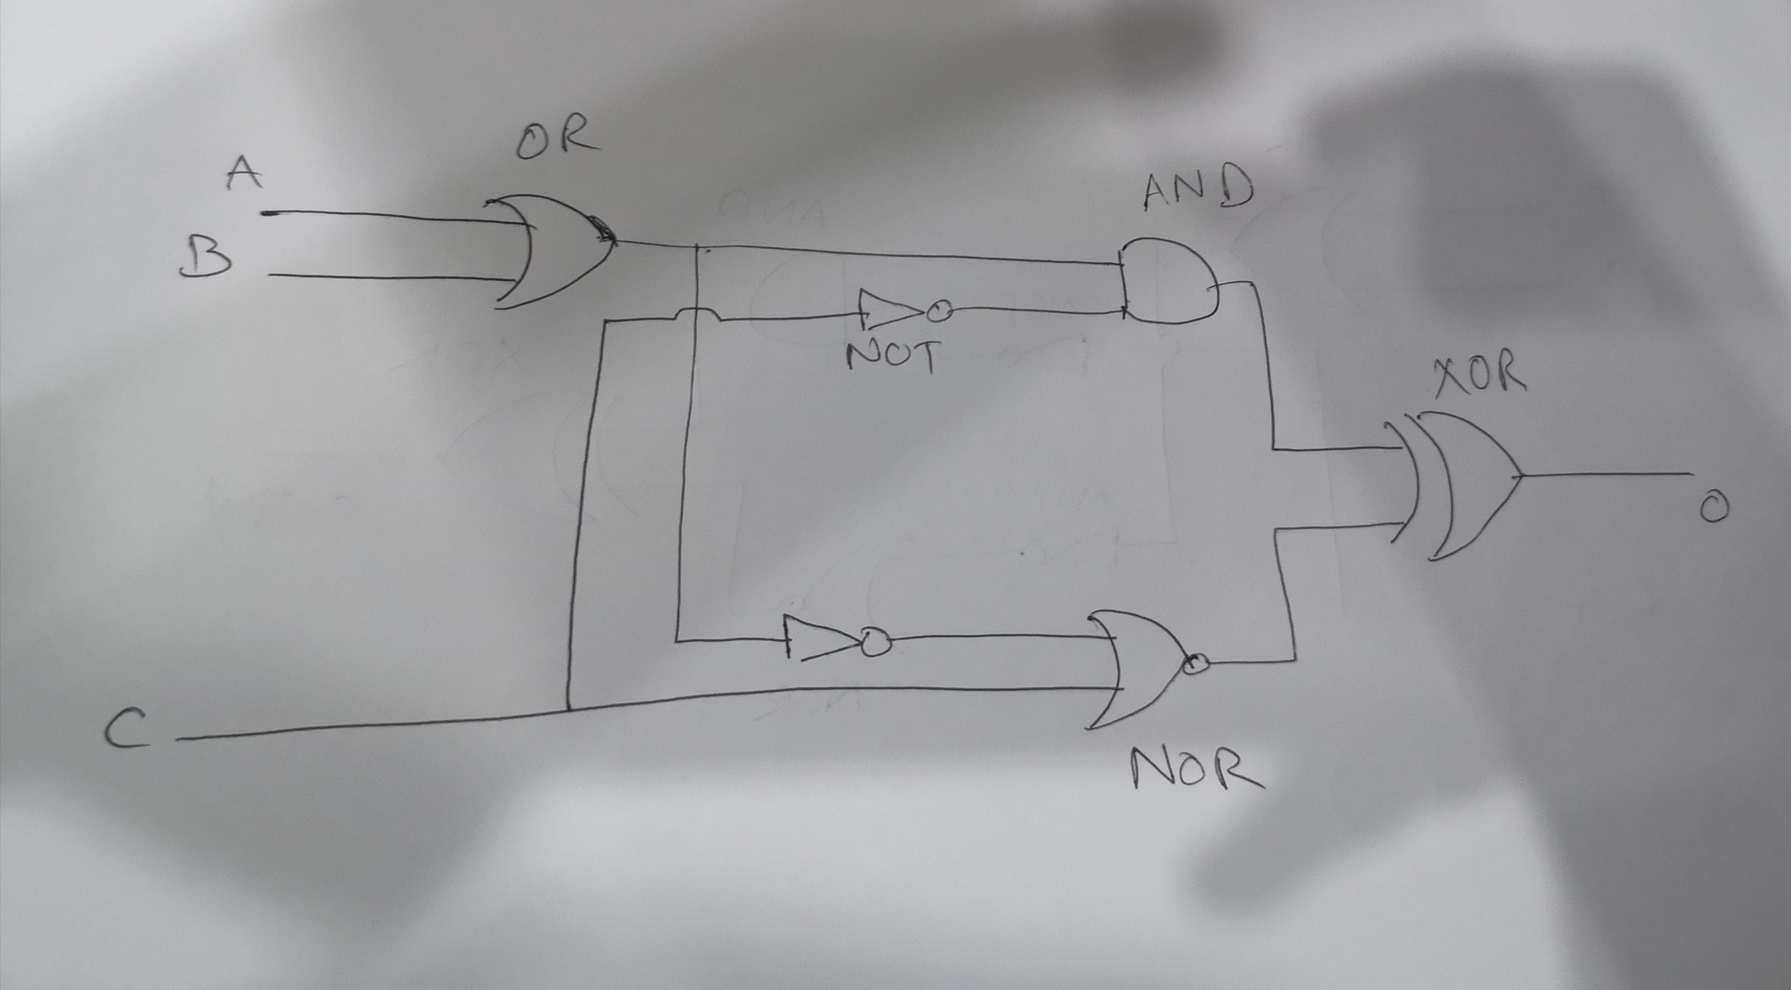and: (1111, 230, 1229, 330)
crossover: (668, 301, 728, 328)
junction: (1283, 643, 1309, 672), (555, 696, 580, 722), (1264, 521, 1289, 541), (1244, 273, 1264, 293), (1264, 439, 1283, 457), (689, 238, 707, 255), (669, 634, 684, 649), (596, 315, 612, 328)
nor: (1077, 597, 1217, 736)
not: (779, 607, 899, 669), (853, 283, 957, 337)
or: (479, 187, 623, 315)
terminal: (1668, 463, 1703, 484), (254, 201, 276, 224), (258, 265, 282, 285), (168, 727, 188, 750)
text: (1127, 740, 1266, 799), (1131, 160, 1261, 215), (1428, 346, 1533, 404), (508, 109, 604, 163), (846, 335, 944, 378), (174, 227, 237, 280), (99, 699, 156, 753), (222, 148, 268, 195), (1696, 485, 1734, 527)
xor: (1379, 407, 1533, 566)
